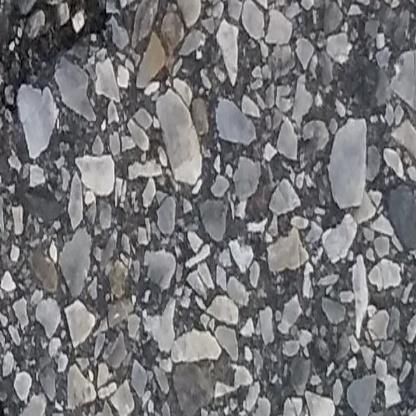Cracks: (0, 0, 145, 156), (0, 339, 24, 416)
